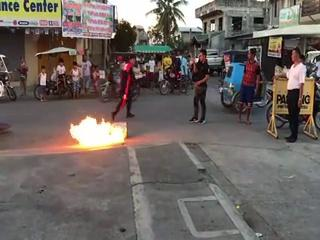Fire: (69, 108, 131, 146)
